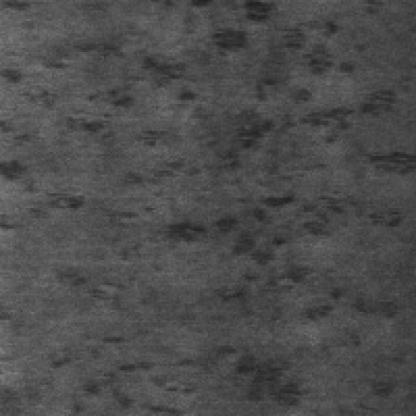rolled-in_scale: (158, 4, 412, 291), (2, 23, 277, 216), (39, 335, 202, 416), (187, 343, 310, 416)
